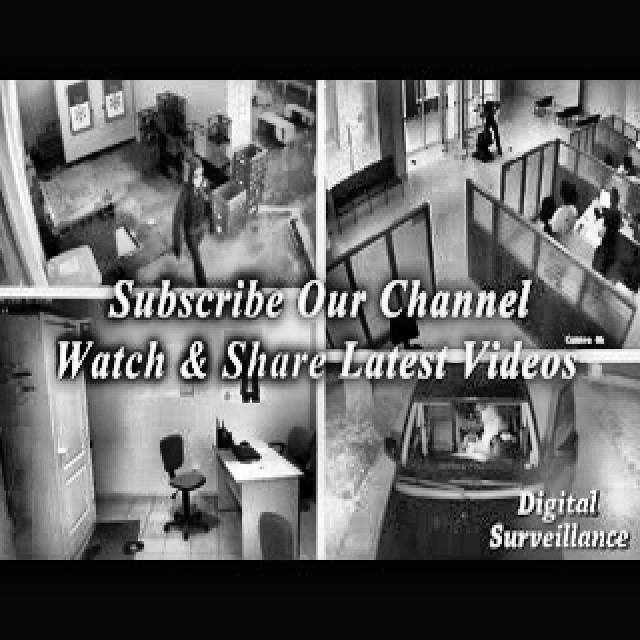robbery: (466, 98, 509, 166)
